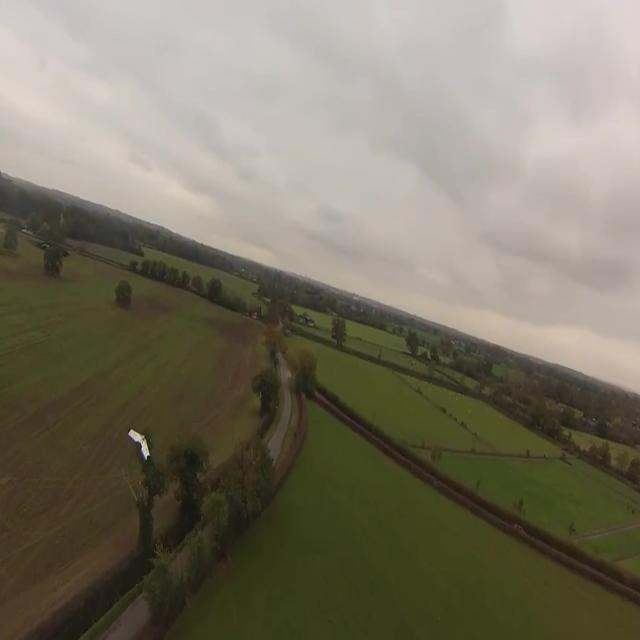iha: (121, 426, 145, 463)
